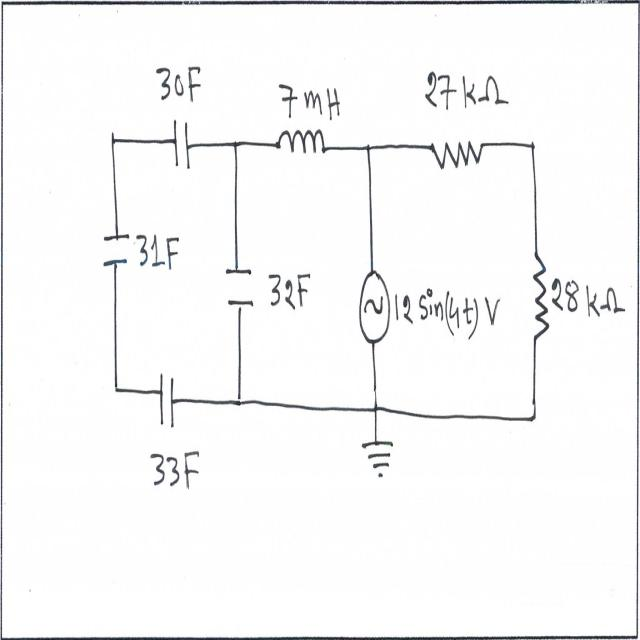ac_current: (356, 262, 393, 348)
capacitor: (221, 260, 257, 312), (170, 104, 193, 181), (102, 227, 134, 276), (160, 368, 177, 431)
ground: (359, 434, 396, 486)
inductor: (276, 118, 332, 170)
resistor: (424, 132, 487, 186), (532, 245, 552, 355)
